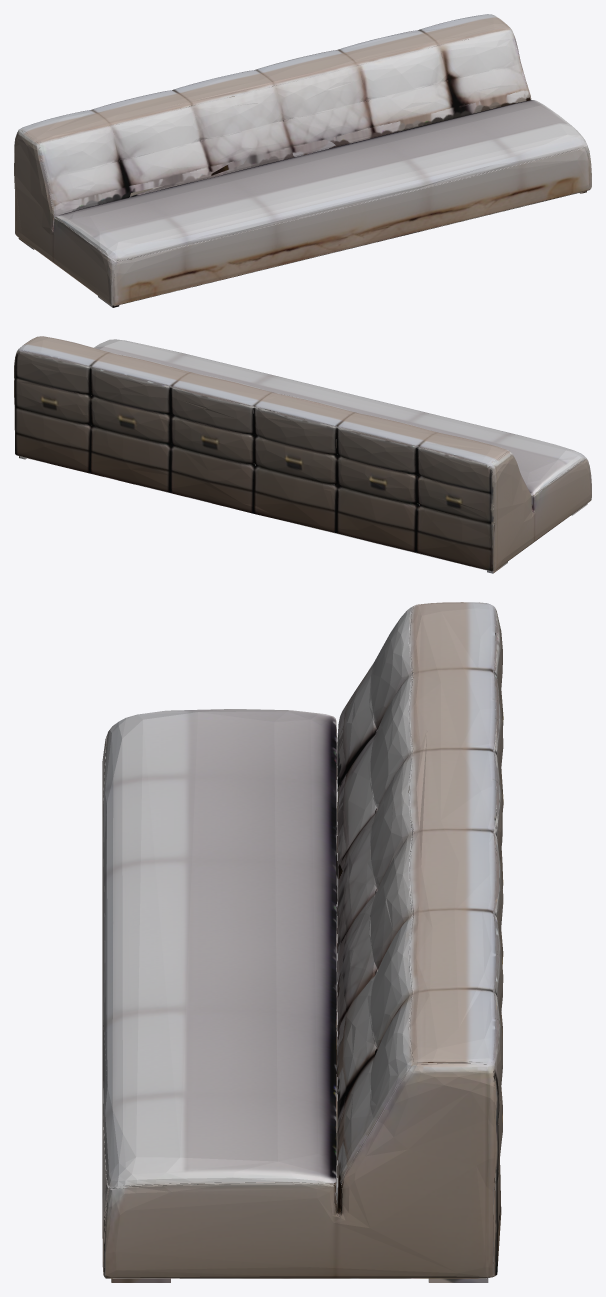
File: edited_mesh.glb
3 views of the same model, one above another, from view 1: azimuth 30°, elevation 25°; view 2: azimuth 150°, elevation 25°; view 3: azimuth 270°, elevation 25° (orthographic). The views are drawn at different scales.
Visible parts, largest first — view 1: solid_001_wire; view 2: solid_001_wire; view 3: solid_001_wire.
Boxes of the visible parts, <box> form: solid_001_wire: <box>14,14,591,307</box>; solid_001_wire: <box>14,336,591,573</box>; solid_001_wire: <box>102,602,503,1282</box>.
Bounding box in the file's own units: 2 × 0.4446 × 0.7213.
Materials: 1 (1 with a texture image).
